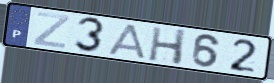2: (230, 38, 259, 75)
3: (71, 16, 109, 55)
6: (190, 34, 222, 69)
A: (106, 23, 147, 61)
H: (146, 25, 188, 67)
Z: (32, 11, 72, 50)
